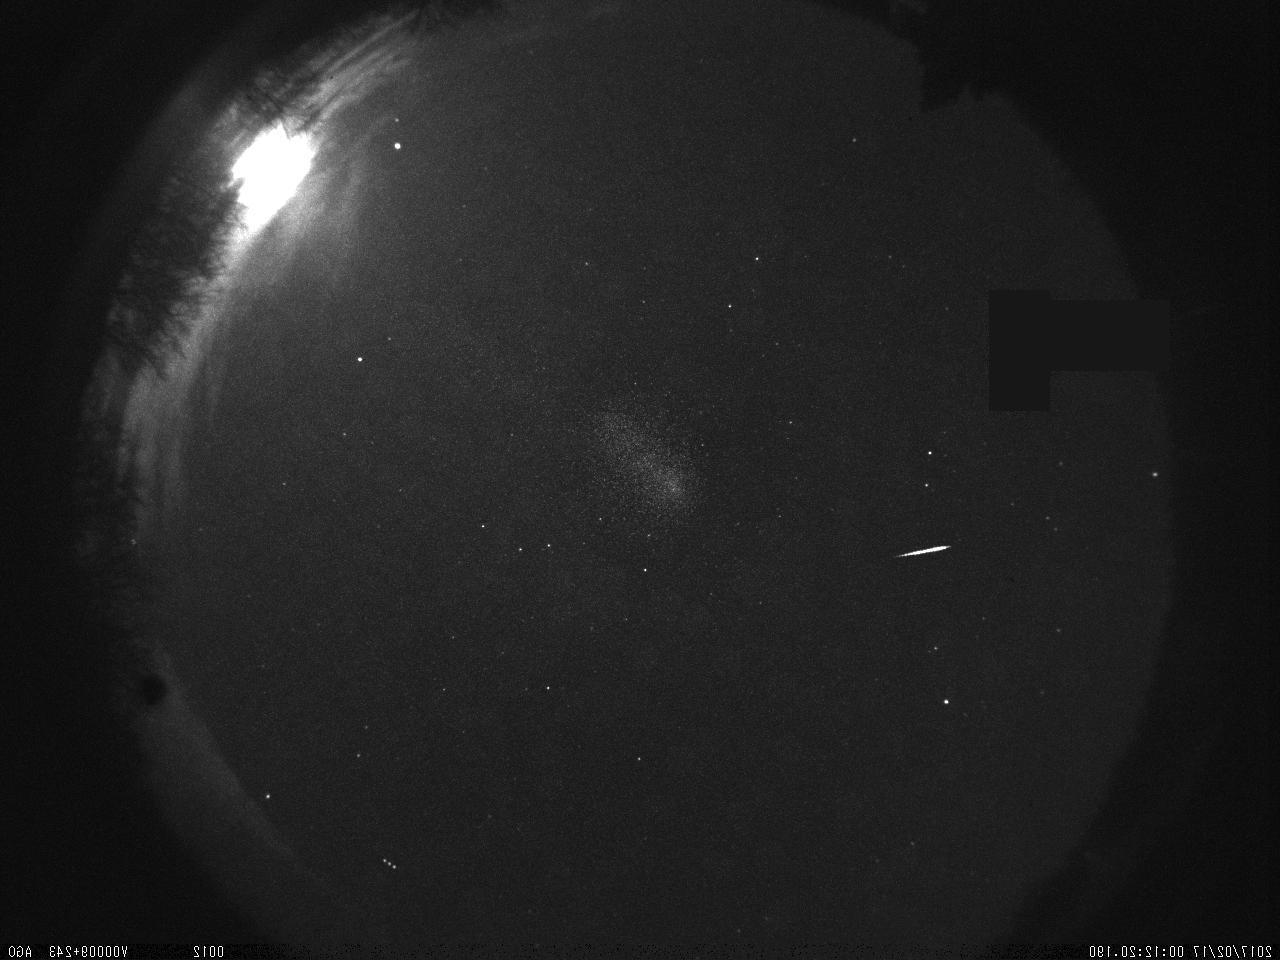meteor: (877, 535, 967, 570)
